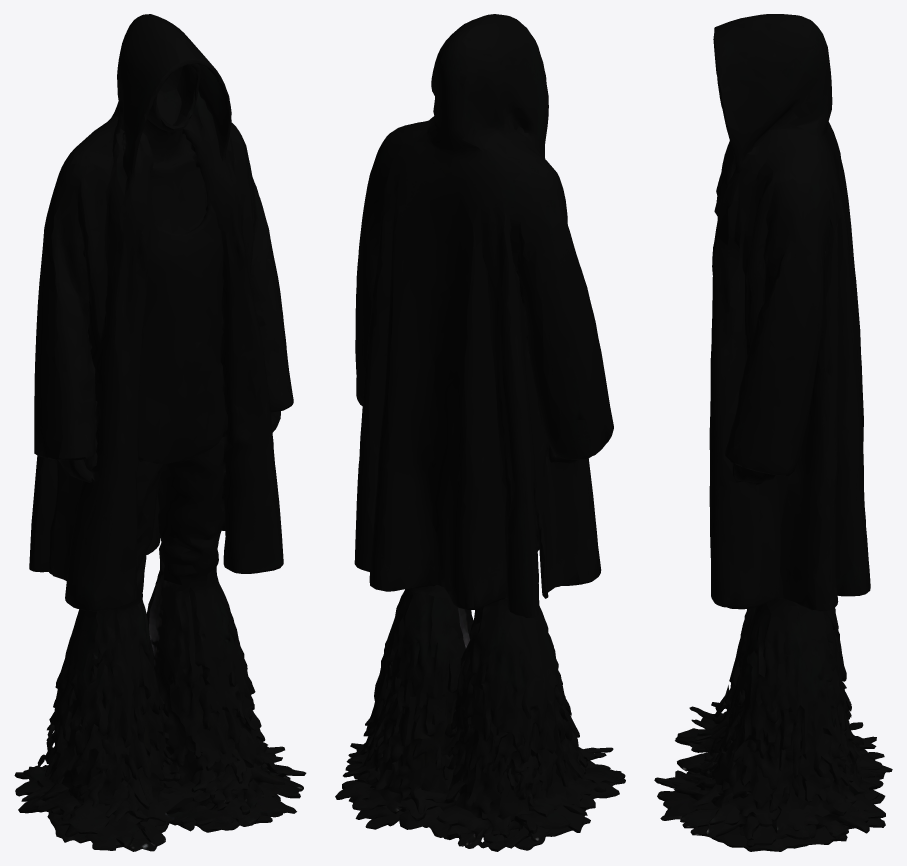
3 views of the same model, side by side, from view 1: azimuth 30°, elevation 25°; view 2: azimuth 150°, elevation 25°; view 3: azimuth 270°, elevation 25° (orthographic).
Visible parts, largest first — view 1: textured_mesh; view 2: textured_mesh; view 3: textured_mesh.
Part boxes in pixels (x1,y1,x2,y2): textured_mesh: (14, 14, 306, 851); textured_mesh: (335, 14, 625, 851); textured_mesh: (654, 14, 892, 851).
Size of the model in its own units: 66.43 by 199 by 54.75.
1 material, 1 textured.
